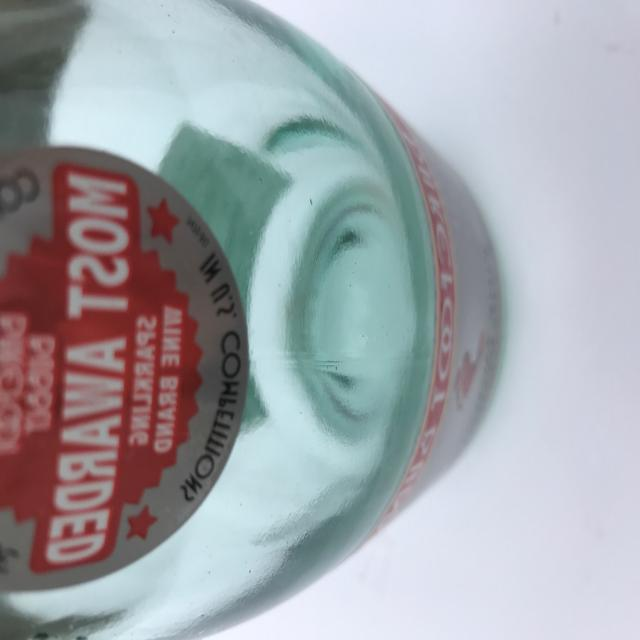glass: (1, 0, 505, 639)
